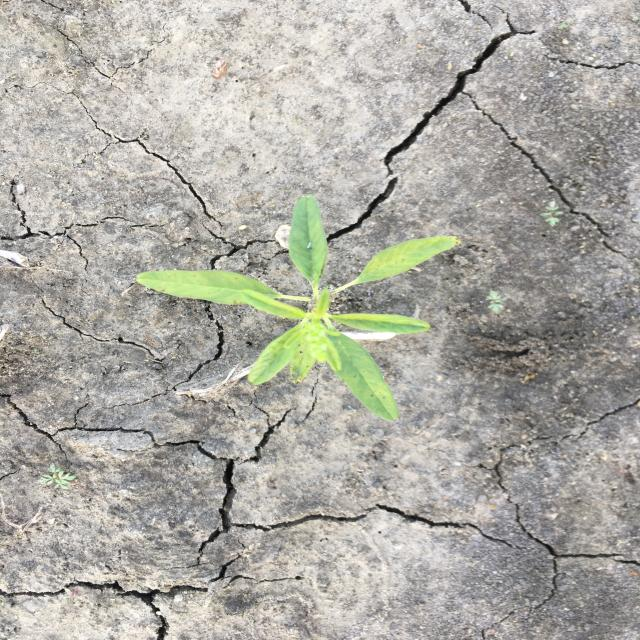Waterhemp: (132, 194, 463, 424)
